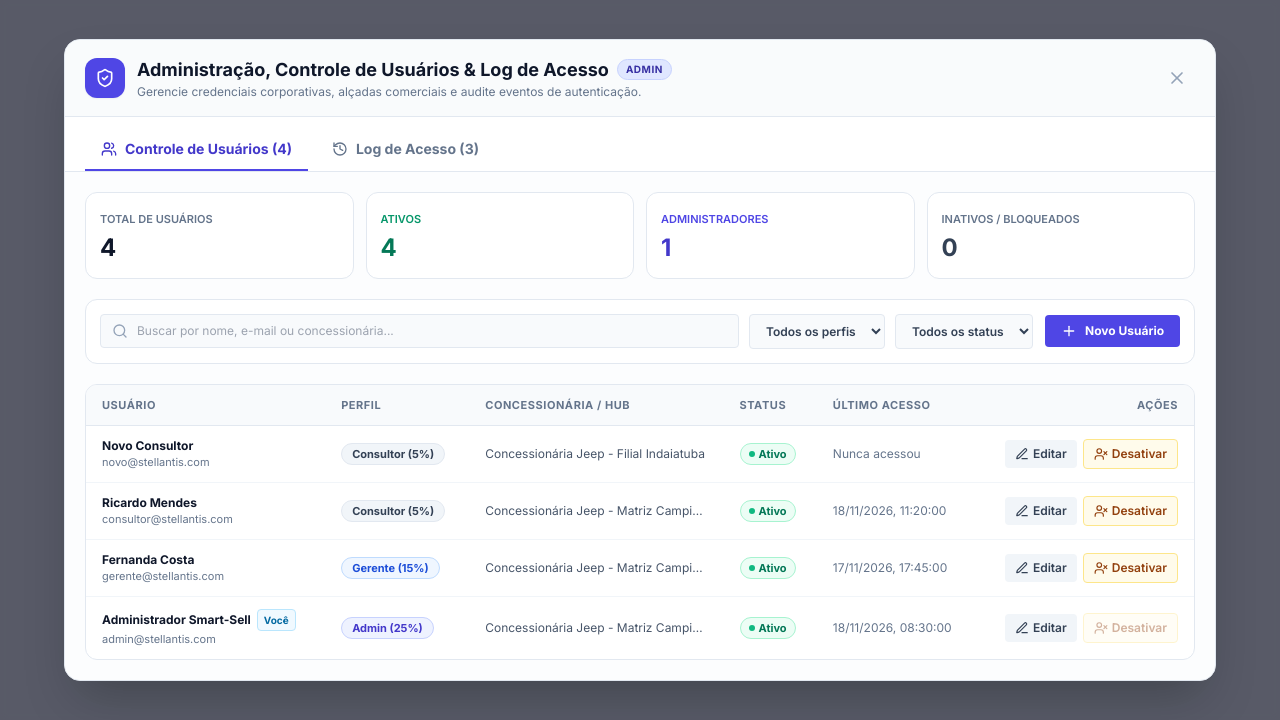
Test: Admin Access, User Control & Access Logs › allows creating users and viewing access logs in AdminControlModal
The width and height of the screenshot is (1280, 720).
Expected: the text "Novo Consultor" is shown, [102,438,193,454]
Click the button "Log de Acesso (3)": (405, 150) [316,129,495,171]
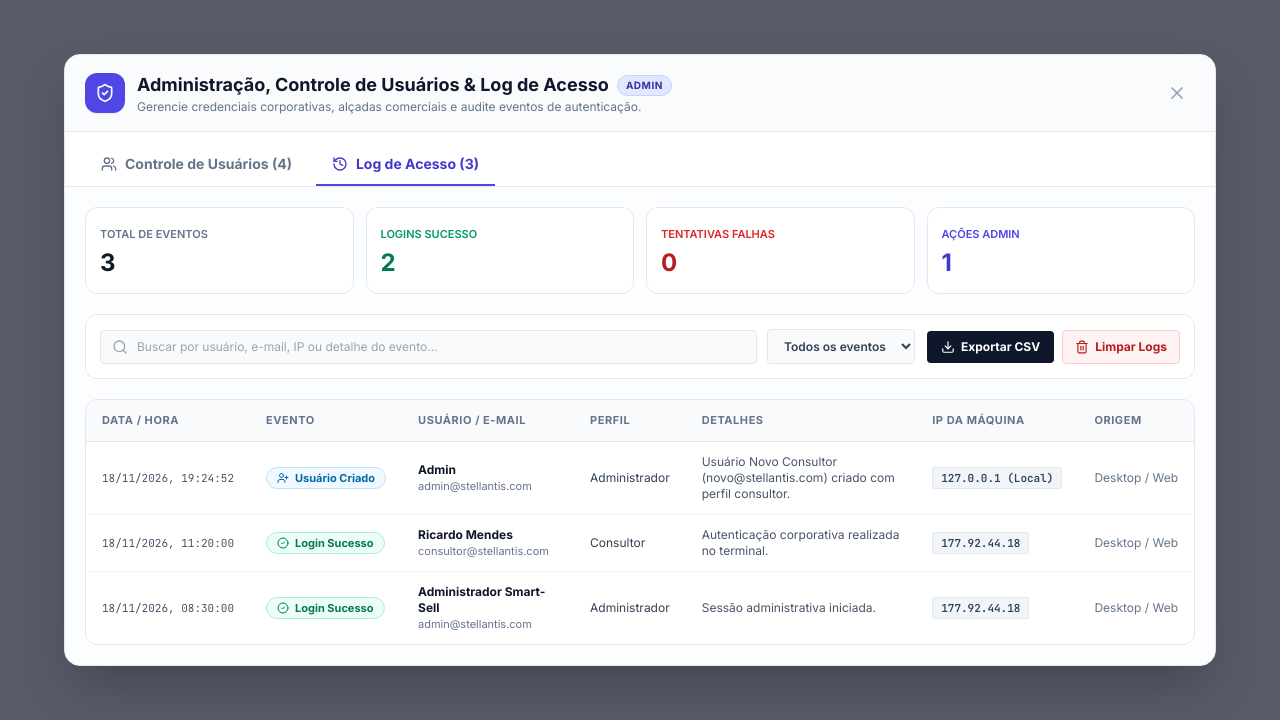
Result: the text "Novo Consultor (novo@stellantis.com) criado" is shown at [702,454,895,501]
Result: the column heading "IP da Máquina" is shown at [916,400,1078,441]
